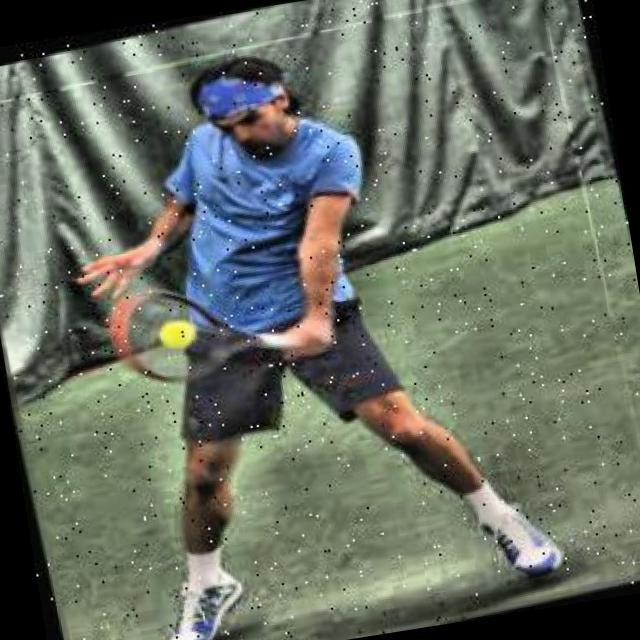Tennis Ball: (156, 317, 197, 352)
